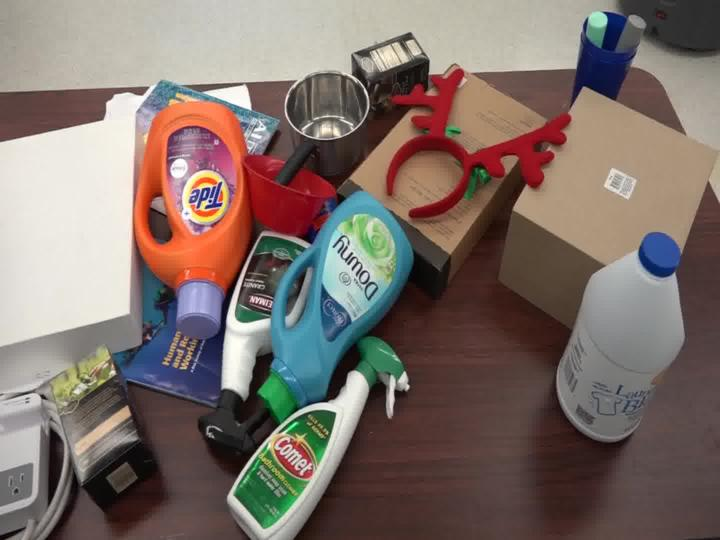downy: (239, 179, 420, 424)
